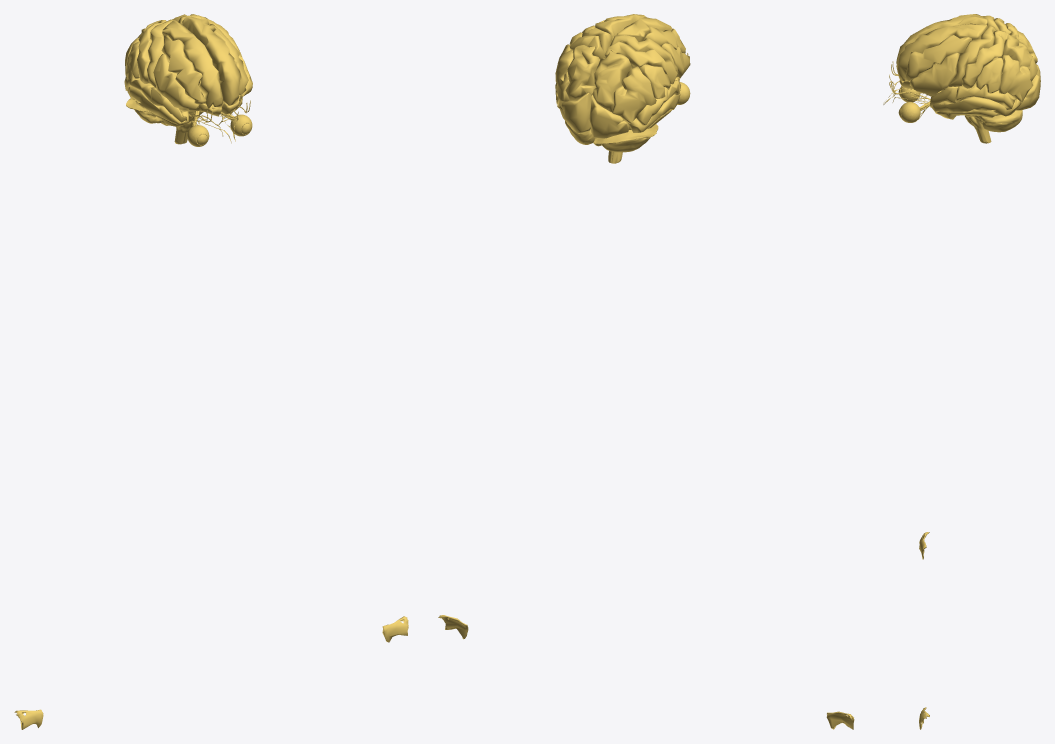
The model's file is nervous.glb.
3 views of the same model, side by side, from view 1: azimuth 30°, elevation 25°; view 2: azimuth 150°, elevation 25°; view 3: azimuth 270°, elevation 25° (orthographic). The views are drawn at different scales.
Parts seen in each view (by area): view 1: FJ1833, FJ1834, FJ1788, FJ1745, FJ1801, FJ1798; view 2: FJ1733, FJ1836, FJ1835, FJ1792, FJ1798, FJ1791; view 3: FJ1833, FJ1787, FJ1744, FJ1732, FJ1789, FJ1797, FJ1800, FJ1834, FJ1835, FJ1839, FJ1841, FJ1781 (+6 smaller).
Boxes of the visible parts, x1,y1,x2,y2 form: FJ1833: [182, 16, 240, 105]; FJ1834: [162, 20, 222, 108]; FJ1788: [161, 35, 206, 104]; FJ1745: [153, 54, 199, 108]; FJ1801: [147, 19, 173, 87]; FJ1798: [137, 20, 166, 83]; FJ1733: [611, 66, 656, 123]; FJ1836: [592, 50, 631, 111]; FJ1835: [565, 44, 599, 100]; FJ1792: [589, 93, 629, 138]; FJ1798: [604, 41, 677, 84]; FJ1791: [559, 92, 591, 133]; FJ1833: [896, 23, 987, 81]; FJ1787: [905, 35, 971, 80]; FJ1744: [909, 52, 959, 95]; FJ1732: [999, 55, 1033, 101]; FJ1789: [932, 96, 1021, 116]; FJ1797: [962, 30, 1007, 88]; FJ1800: [949, 25, 996, 86]; FJ1834: [896, 14, 987, 64]; FJ1835: [1001, 34, 1037, 80]; FJ1839: [956, 83, 1014, 109]; FJ1841: [976, 57, 1003, 93]; FJ1781: [978, 110, 1022, 132].
Size of the model in its own units: 0.5416 by 0.8504 by 0.1957.
